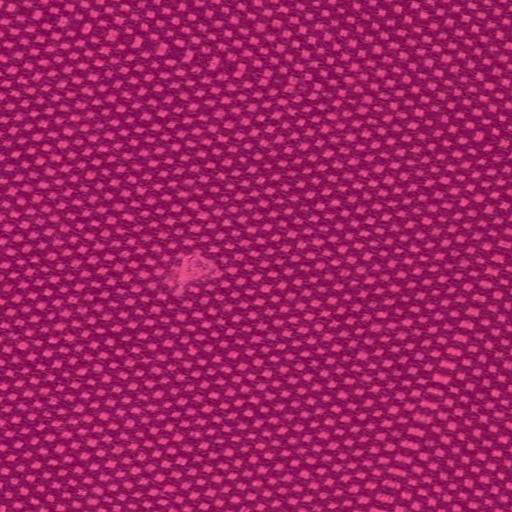knot: (167, 247, 229, 307)
